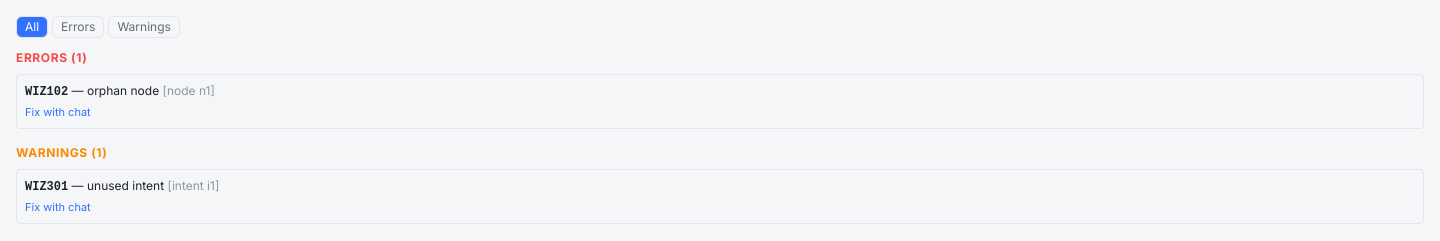
Test case: FindingList › severity filter hides the other group
expect the text "WIZ102" is shown: met, box [25,85,68,99]
expect the text "WIZ301" is shown: met, box [25,180,68,194]
What coordinates should you click on to do the following:
click the button "Errors"
I would click on:
 (78, 27)
Its box is [52,16,104,38].
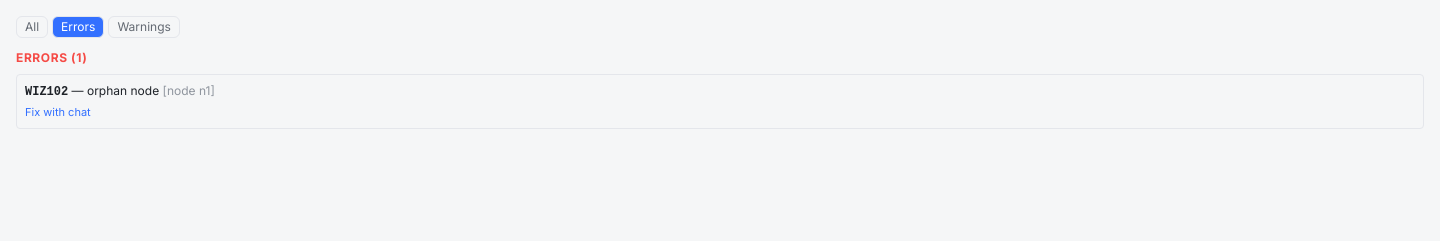
expect the text "WIZ102" is shown: met, box [25,85,68,99]
expect the button "WIZ301" is gone: met
